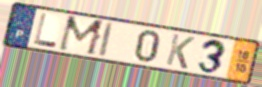0: (133, 29, 163, 63)
3: (195, 38, 230, 76)
I: (97, 21, 116, 59)
K: (163, 32, 196, 71)
L: (32, 12, 59, 49)
M: (56, 14, 107, 58)
